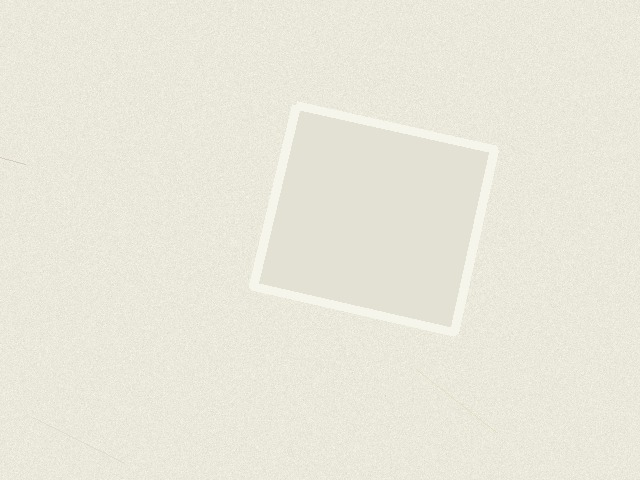parking_area: (253, 105, 494, 332)
